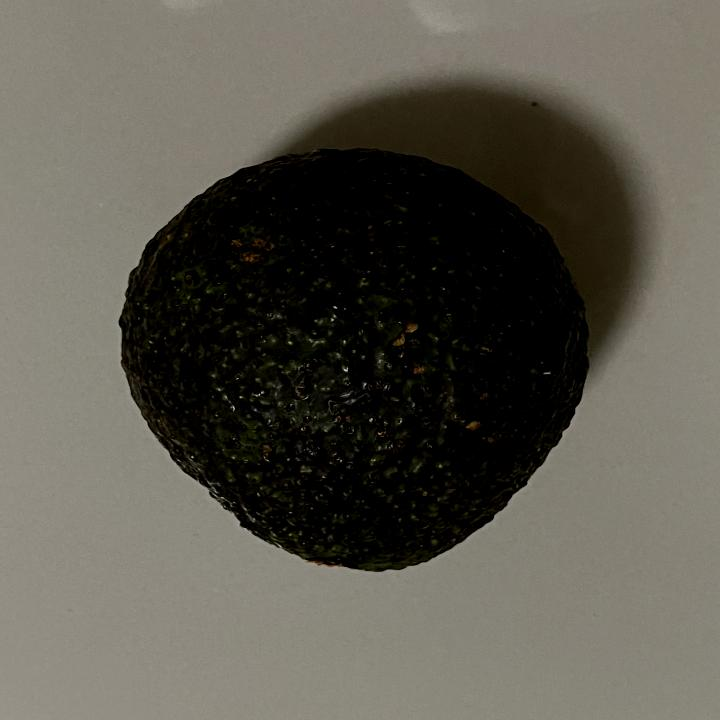Level1: (107, 142, 604, 586)
